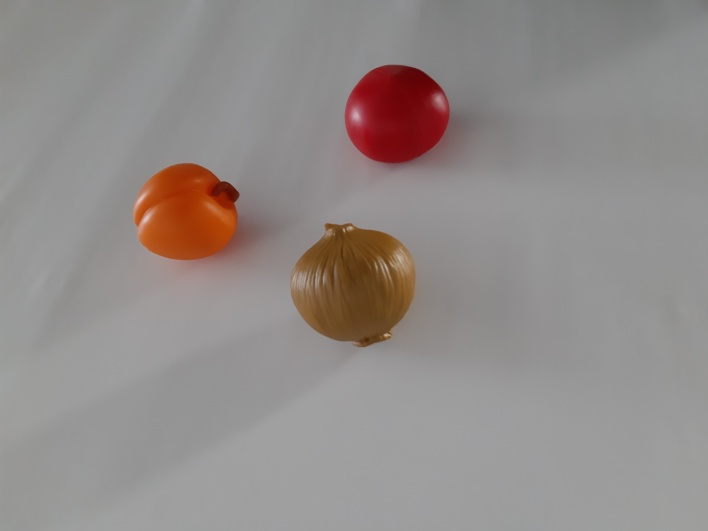apricot: (115, 147, 258, 279)
onion: (283, 210, 432, 363)
tomato: (329, 53, 469, 180)
